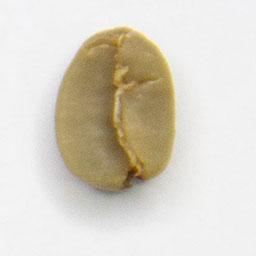premium: (51, 24, 179, 197)
